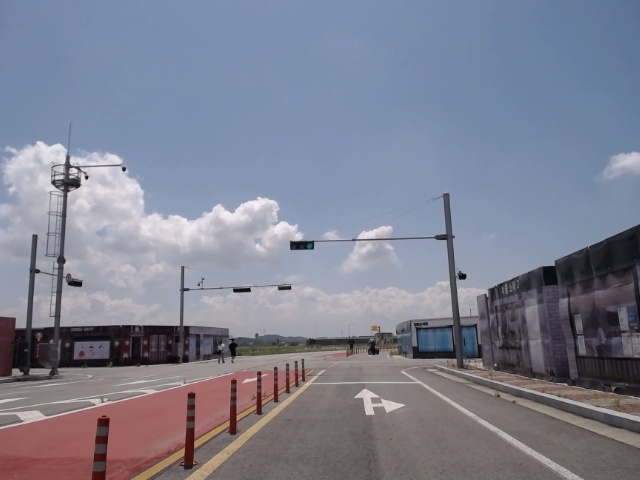green_3: (291, 241, 313, 251)
